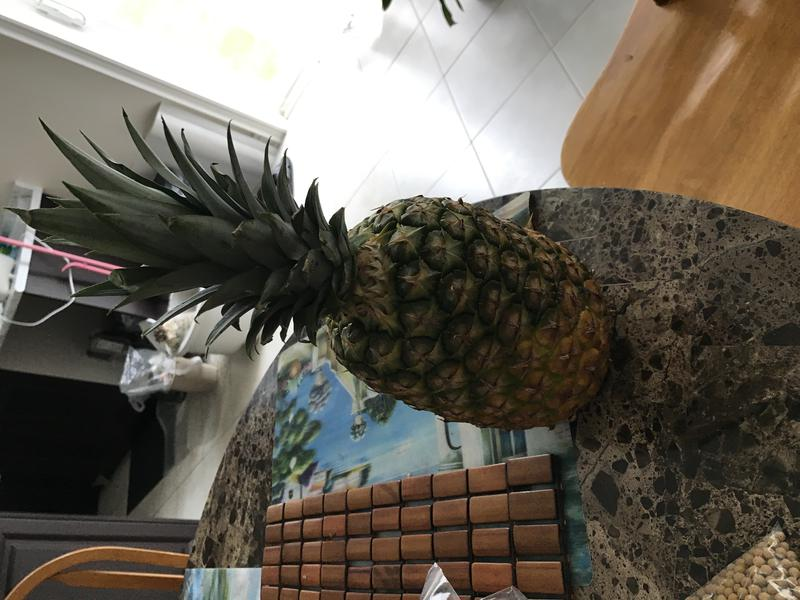pineapple: (10, 103, 618, 445)
